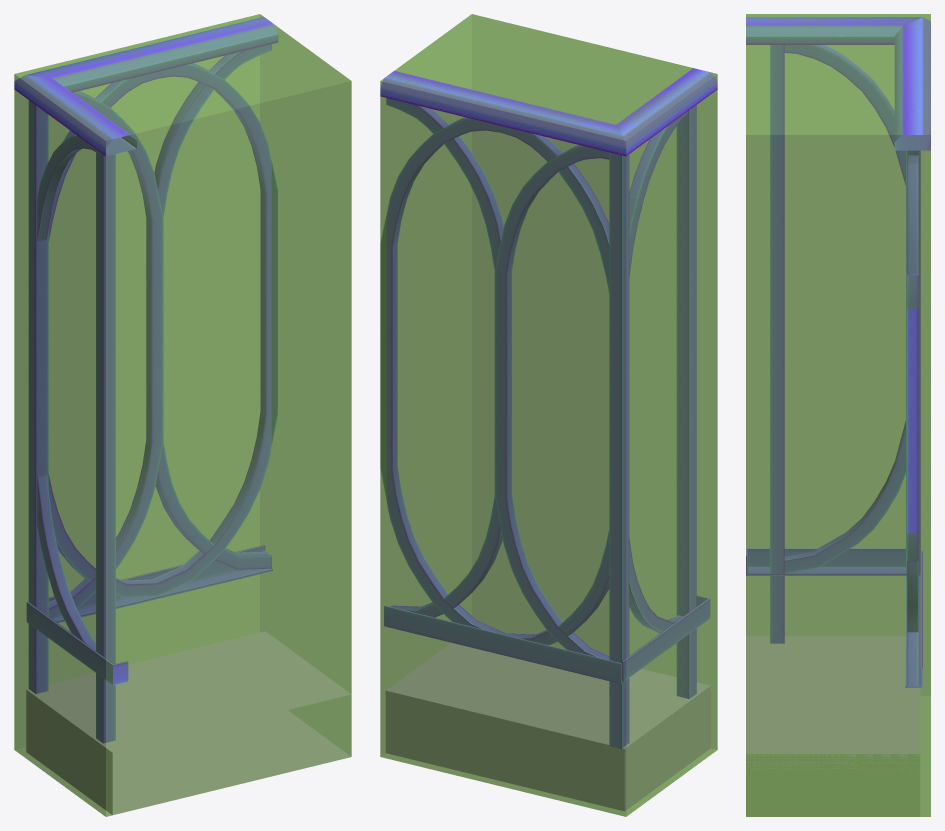
Rendered from F_md_Balcony_S_end_03_m.fbx.
The picture shows the model from 3 angles, left to right: view 1: azimuth 30°, elevation 25°; view 2: azimuth 150°, elevation 25°; view 3: azimuth 270°, elevation 25°; orthographic projection.
Parts seen in each view (by area): view 1: F_md_Balcony_S_end_03_m_col_01, F_md_Balcony_S_end_03_m_LOD0; view 2: F_md_Balcony_S_end_03_m_col_01, F_md_Balcony_S_end_03_m_LOD0; view 3: F_md_Balcony_S_end_03_m_col_01, F_md_Balcony_S_end_03_m_LOD0.
Boxes of the visible parts, box(x1,y1,x2,y2) form: F_md_Balcony_S_end_03_m_col_01: box(14, 14, 351, 816); F_md_Balcony_S_end_03_m_LOD0: box(14, 17, 351, 814); F_md_Balcony_S_end_03_m_col_01: box(380, 14, 717, 816); F_md_Balcony_S_end_03_m_LOD0: box(380, 68, 717, 811); F_md_Balcony_S_end_03_m_col_01: box(746, 14, 930, 816); F_md_Balcony_S_end_03_m_LOD0: box(746, 17, 930, 816).
Size of what is drawn, in the model's own units: 42.18 by 108 by 26.54.
